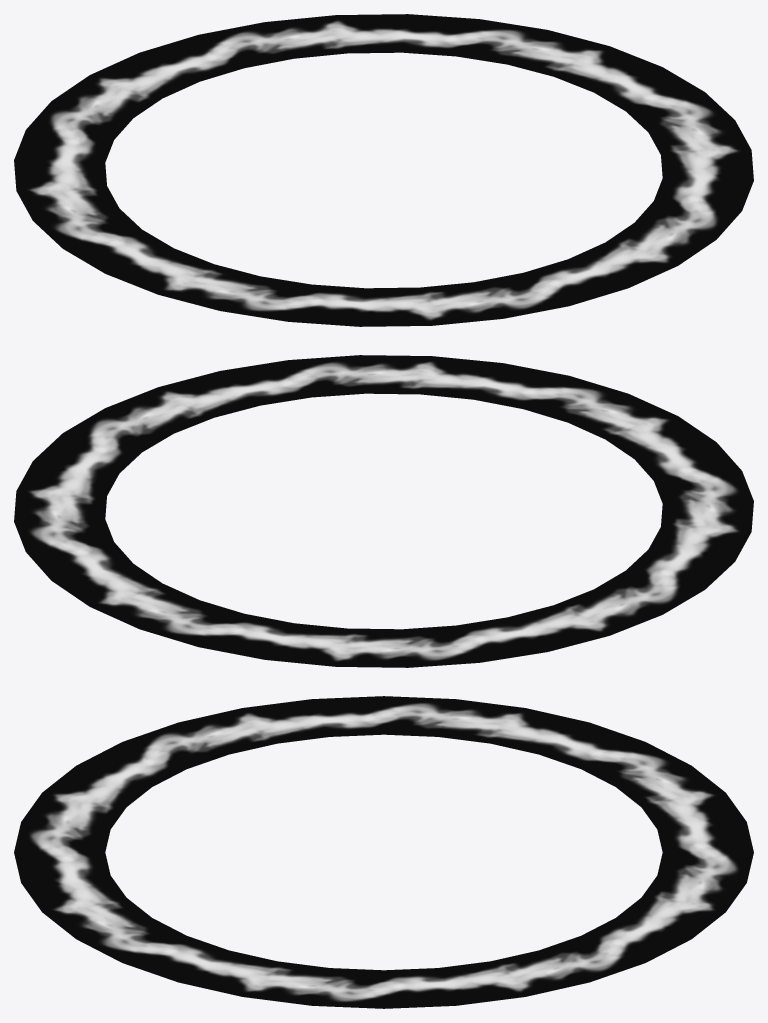
File: torus_flat2.fbx
The picture shows the model from 3 angles, top to bottom: view 1: azimuth 30°, elevation 25°; view 2: azimuth 150°, elevation 25°; view 3: azimuth 270°, elevation 25°; orthographic projection.
Visible parts, largest first — view 1: torus_flat2; view 2: torus_flat2; view 3: torus_flat2.
Boxes of the visible parts, x1,y1,x2,y2 form: torus_flat2: (14, 14, 753, 326); torus_flat2: (14, 355, 753, 667); torus_flat2: (14, 696, 753, 1008).
Bounding box in the file's own units: 200 × 3.26e-05 × 200.
